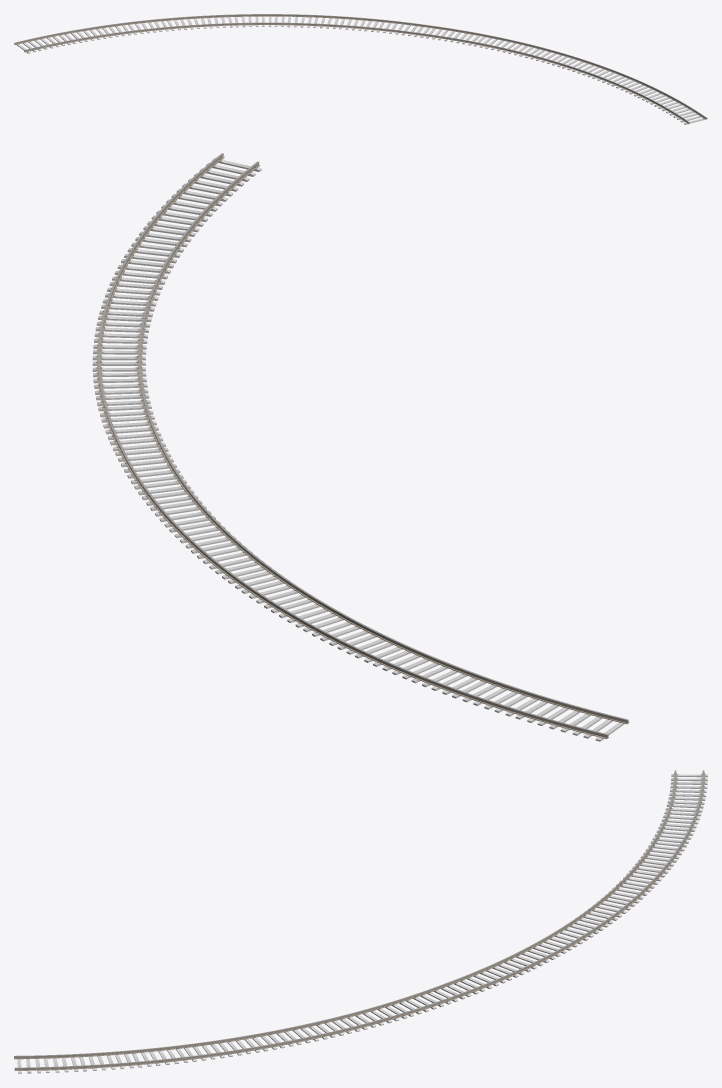
File: road9.fbx
3 renders of one model, top to bottom at view 1: azimuth 30°, elevation 25°; view 2: azimuth 150°, elevation 25°; view 3: azimuth 270°, elevation 25°, orthographic. The views are drawn at different scales.
Parts seen in each view (by area): view 1: Null_1_7; view 2: Null_1_7; view 3: Null_1_7.
Part boxes in pixels (<box>): Null_1_7: <box>14,14,707,124</box>; Null_1_7: <box>92,153,629,741</box>; Null_1_7: <box>14,770,707,1073</box>.
Bounding box in the file's own units: 8198 × 49.86 × 8027.
